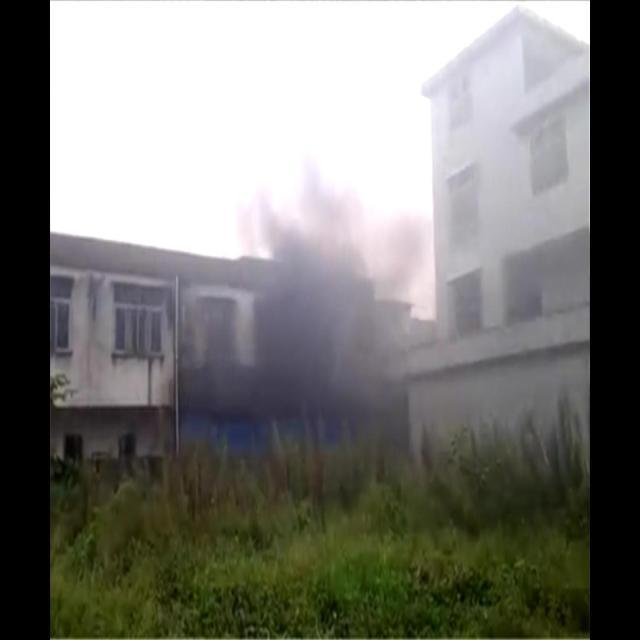Smoke: (195, 159, 431, 408)
